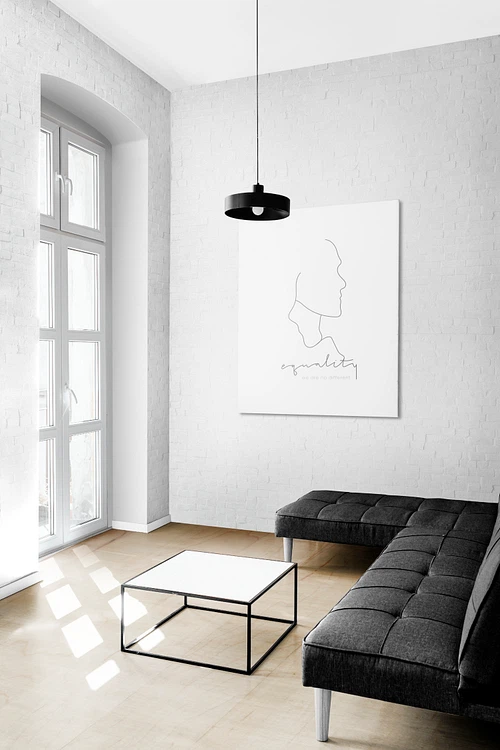sofa: (273, 485, 500, 744)
table: (116, 547, 301, 678)
wall art: (233, 195, 405, 422)
